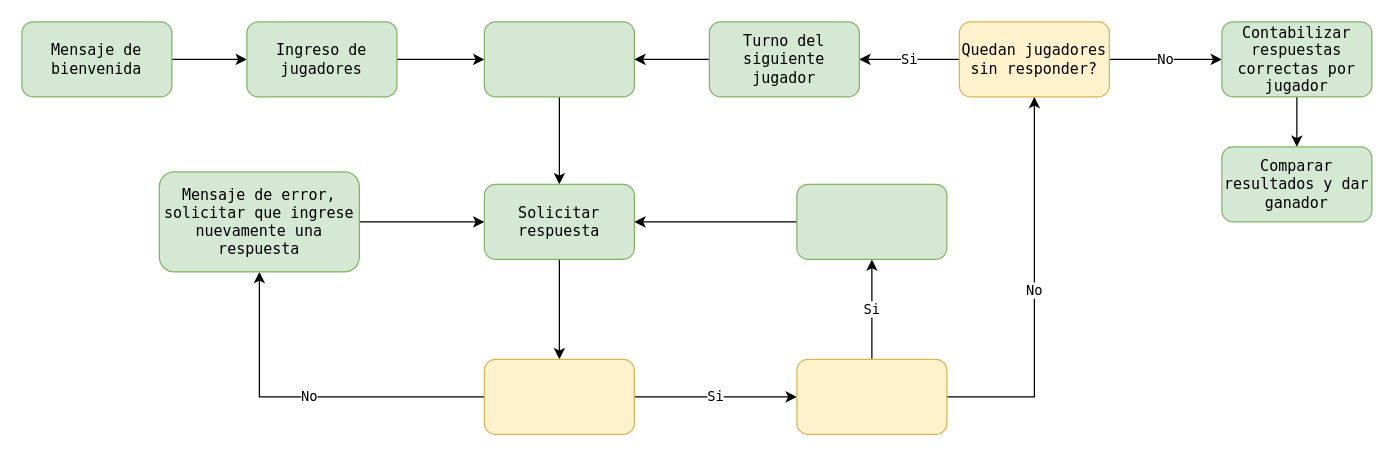
This 1394x456 diagram has some shape labels left out. Each missing label, with the centre of its shape:
Empiezan las preguntas: the point at 558,59
Está dentro de las opciones: the point at 558,396
Queda otra pregunta?: the point at 871,396
Siguiente pregunta: the point at 871,221
